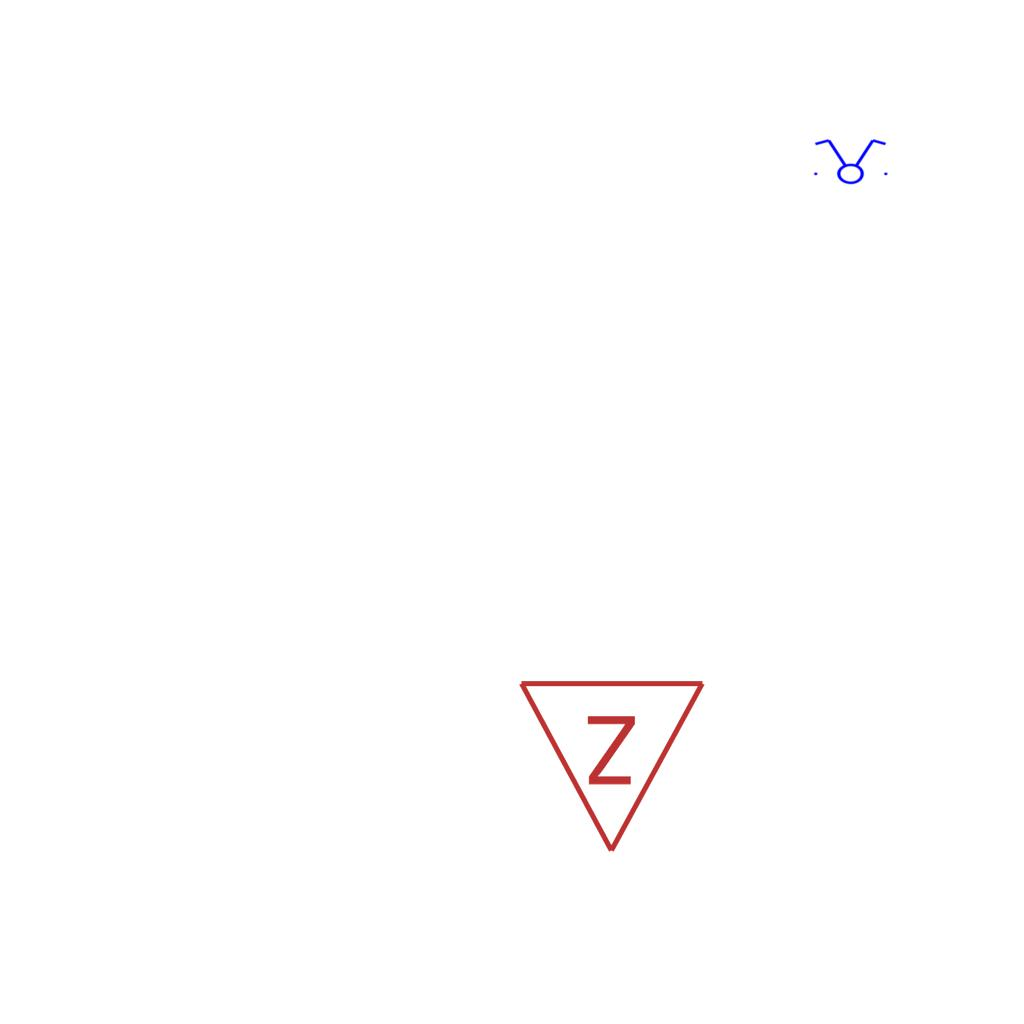Serienschalter: (808, 137, 892, 185)
Zimmersignalleuchte: (516, 666, 712, 866)
